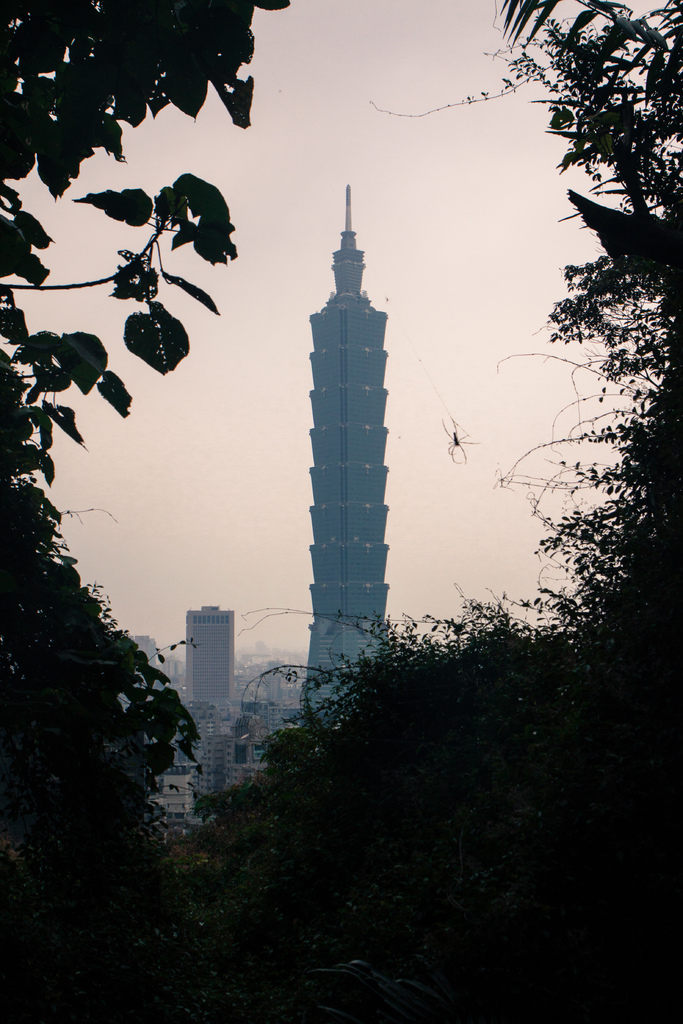Tree: (202, 0, 682, 1011), (0, 0, 193, 885)
